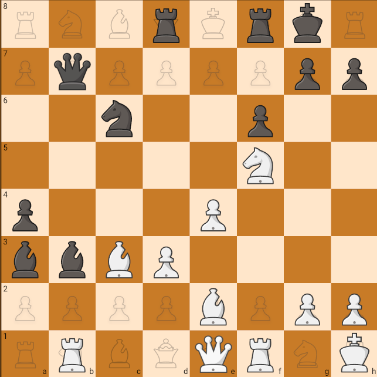bb: (4, 239, 44, 283), (54, 237, 92, 281)
bk: (288, 2, 326, 45)
bn: (98, 97, 144, 142)
bp: (242, 100, 282, 142), (5, 192, 45, 234), (335, 51, 373, 93), (287, 52, 325, 92)
bq: (52, 50, 94, 92)
br: (242, 1, 282, 46), (147, 3, 186, 44)
wb: (97, 237, 136, 278), (194, 286, 231, 329)
wk: (334, 332, 373, 375)
wn: (238, 146, 282, 186)
wp: (147, 239, 187, 282), (292, 286, 326, 328), (338, 291, 373, 327), (199, 195, 229, 233)
wq: (193, 333, 234, 374)
wr: (53, 335, 94, 375), (241, 336, 281, 377)
